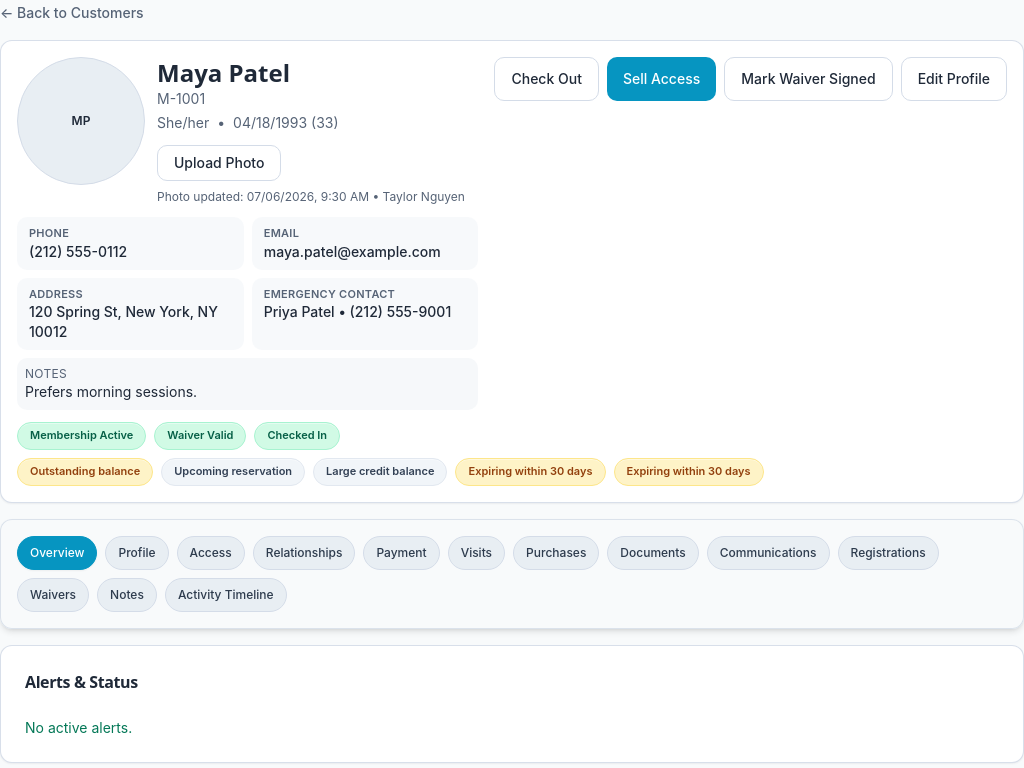
Scenario: CustomerDetailPage › Edit Profile opens with current data
Click the button "Edit Profile" at (954,79), box [901, 57, 1007, 101]
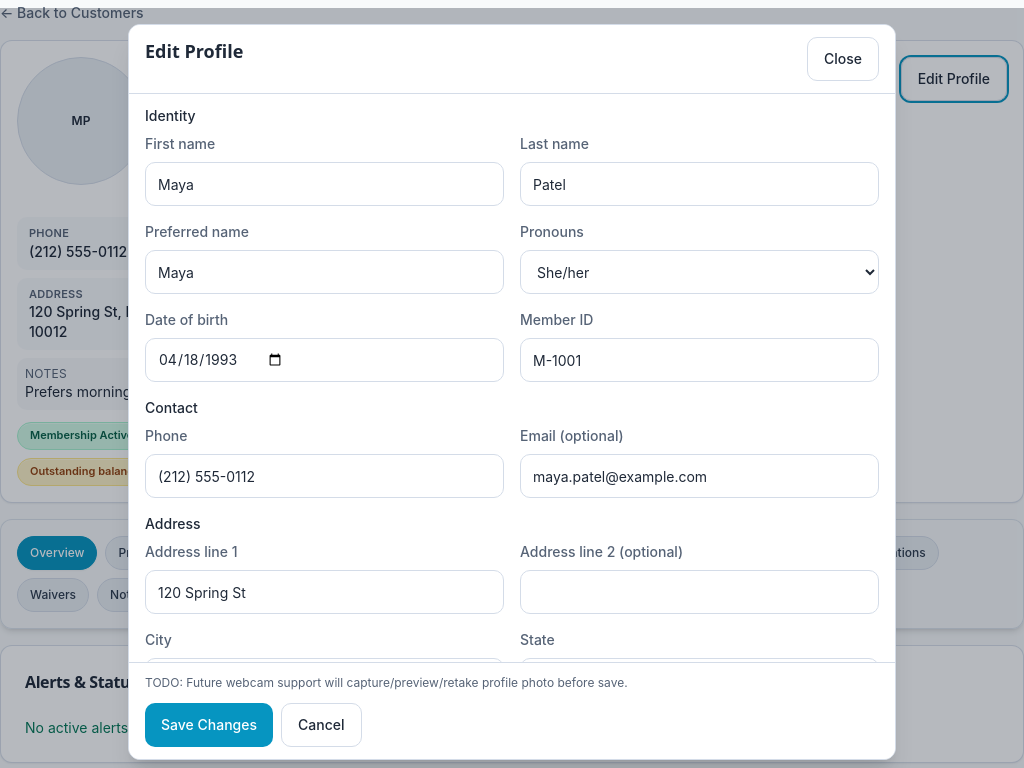
expect the dialog "Edit Profile" is shown: met
expect the footer with test id "modal-footer" is shown: met, box [129, 662, 895, 759]
expect the button named "Close Edit Profile" is shown: met, box [807, 37, 879, 81]
